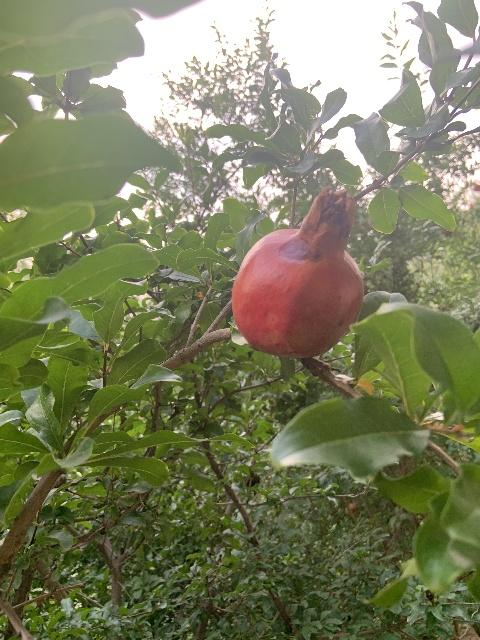ripe: (231, 187, 364, 359)
